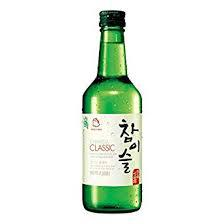soju: (79, 9, 146, 214)
